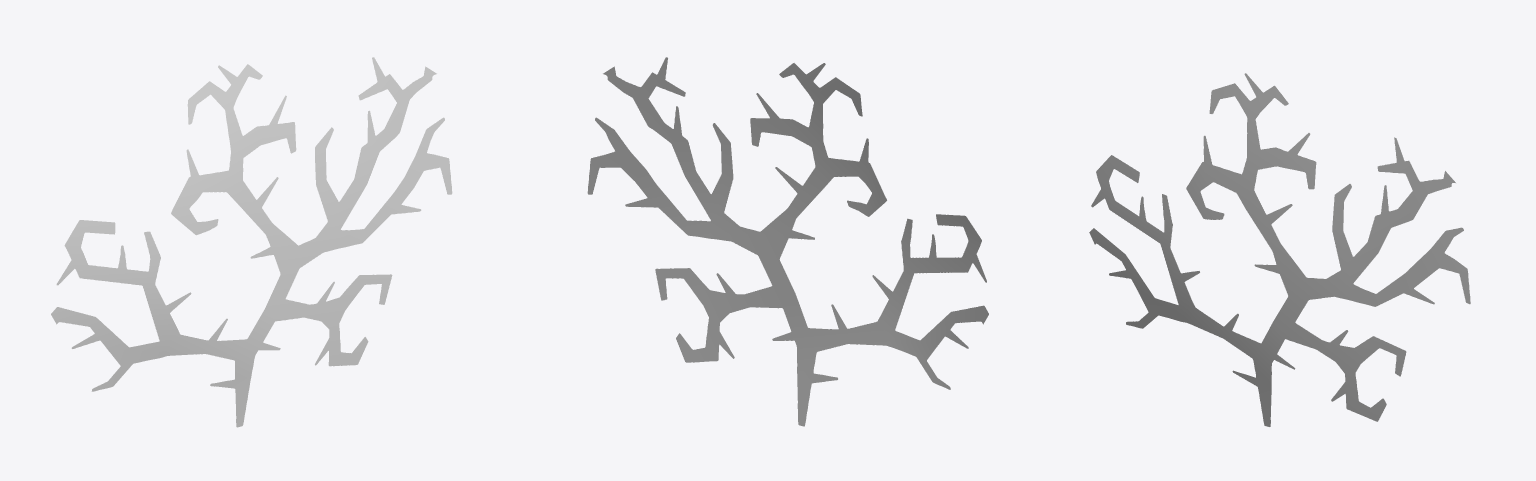
Rendered from SM_Env_Vine_02.fbx.
The picture shows the model from 3 angles, left to right: view 1: azimuth 30°, elevation 25°; view 2: azimuth 150°, elevation 25°; view 3: azimuth 330°, elevation 25°; orthographic projection. The views are drawn at different scales.
Visible parts, largest first — view 1: SM_Env_Vine_02; view 2: SM_Env_Vine_02; view 3: SM_Env_Vine_02.
Part boxes in pixels (left/top/right/bottom): SM_Env_Vine_02: left=51, top=57, right=452, bottom=427; SM_Env_Vine_02: left=587, top=57, right=988, bottom=426; SM_Env_Vine_02: left=1089, top=73, right=1470, bottom=426.
Bounding box in the file's own units: 203 × 172 × 11.07.
